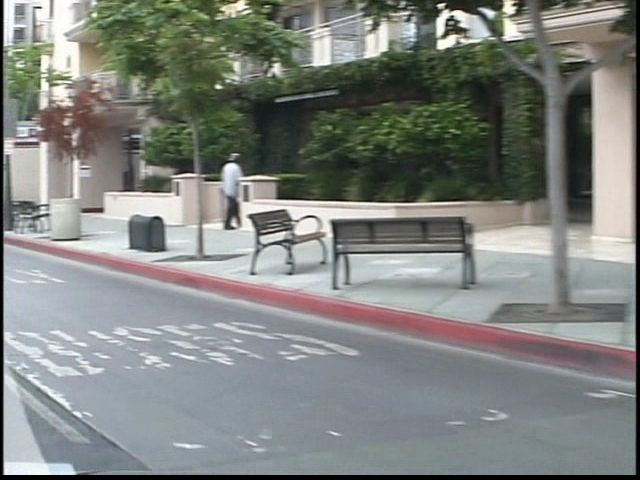person: (198, 146, 230, 238)
